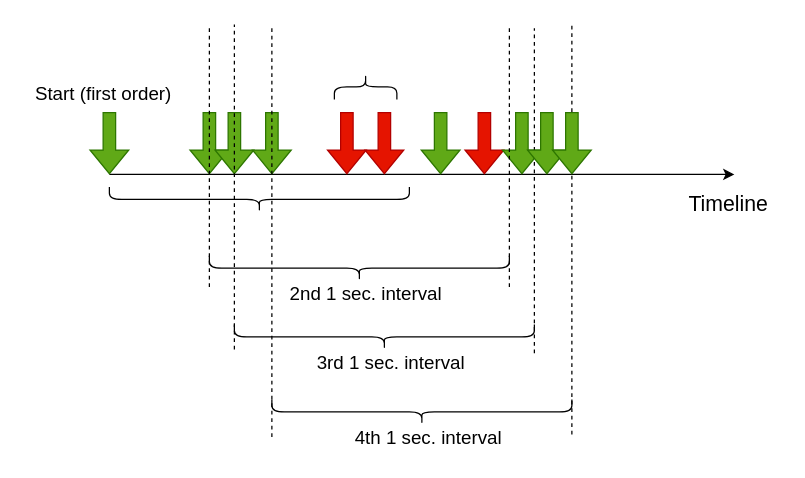
Image size: 805x478. Some labels were removed from this diagram. The shapes that lost their labels are listed below. From the top down, each one's centre as x and y in pixels, then its label:
At [365,86]: "Invalid Orders".
At [258,199]: "1st 1 sec. interval".
